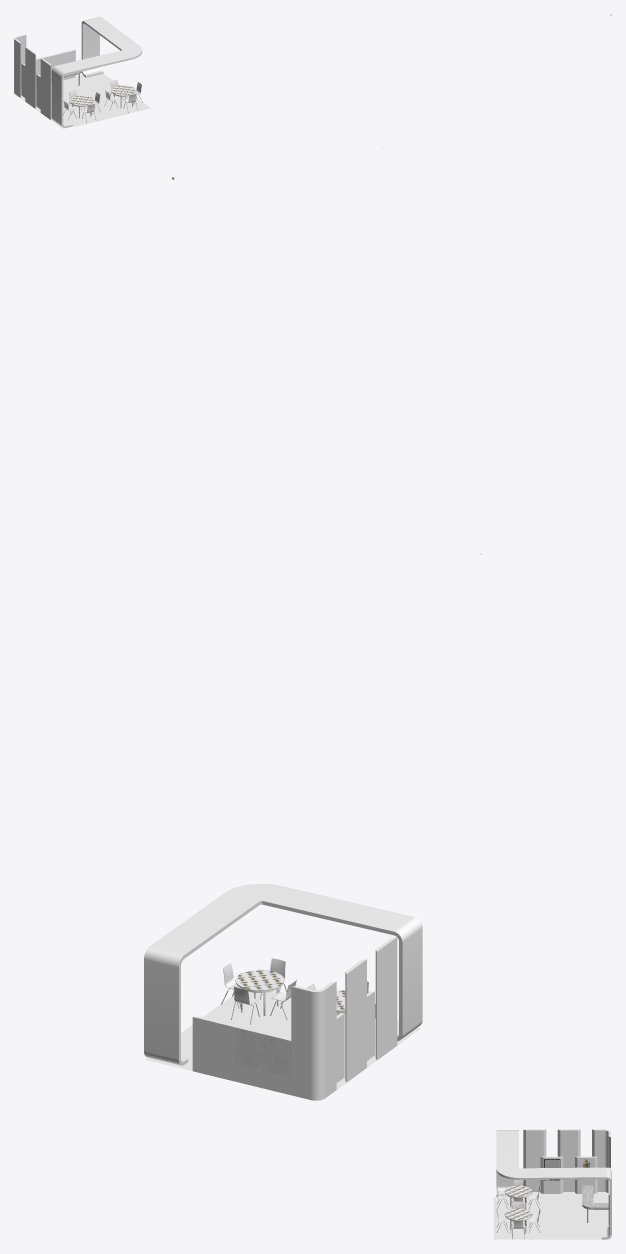
Rendered from Booth.dae.
The picture shows the model from 3 angles, top to bottom: view 1: azimuth 30°, elevation 25°; view 2: azimuth 150°, elevation 25°; view 3: azimuth 270°, elevation 25°; orthographic projection. The views are drawn at different scales.
Visible parts, largest first — view 1: SketchUp, Component_13 (×2); view 2: SketchUp (×2); view 3: SketchUp (×4), Component_13 (×2), _-Decoration_-_Painting_-_Warhol_Marilyn_Monroe.
Boxes of the visible parts, x1,y1,x2,y2 form: SketchUp: (14, 16, 150, 128); Component_13 (×2): (69, 85, 135, 106); SketchUp (×2): (144, 884, 422, 1100); SketchUp (×4): (493, 1129, 611, 1239); Component_13 (×2): (504, 1185, 532, 1220); _-Decoration_-_Painting_-_Warhol_Marilyn_Monroe: (577, 1158, 594, 1167).
Bounding box in the file's own units: 760 × 1027 × 404.
